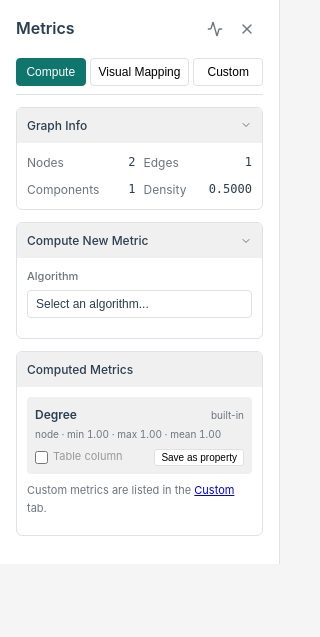
Scenario: MetricsPanel — Custom tab › manual definitions read "not computed" / "stale" and auto ones carry an auto marker
This screenshot has width=320, height=637.
Step 1. Click the button with test id "metrics-tab-custom" → click(228, 72), box [193,58,263,86]
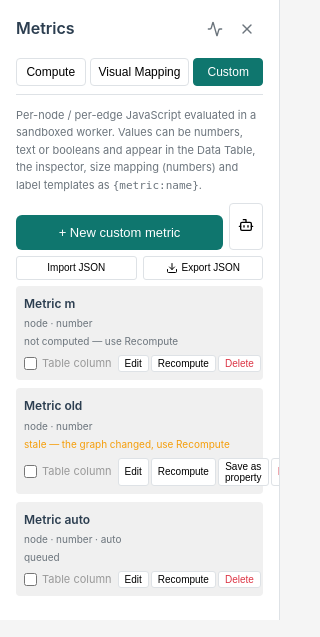
Now the text with test id "custom-metric-status-m" shows "not computed", box [24,335,178,347]
Now the text with test id "custom-metric-status-old" shows "stale", box [24,438,230,450]
Now the text with test id "custom-metric-status-auto" reads "queued", box [24,551,60,563]
